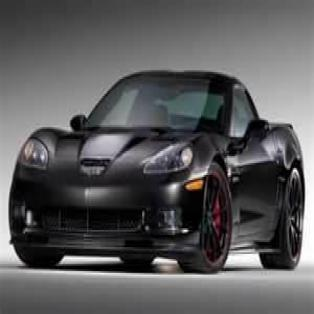Auto: (6, 65, 308, 273)
